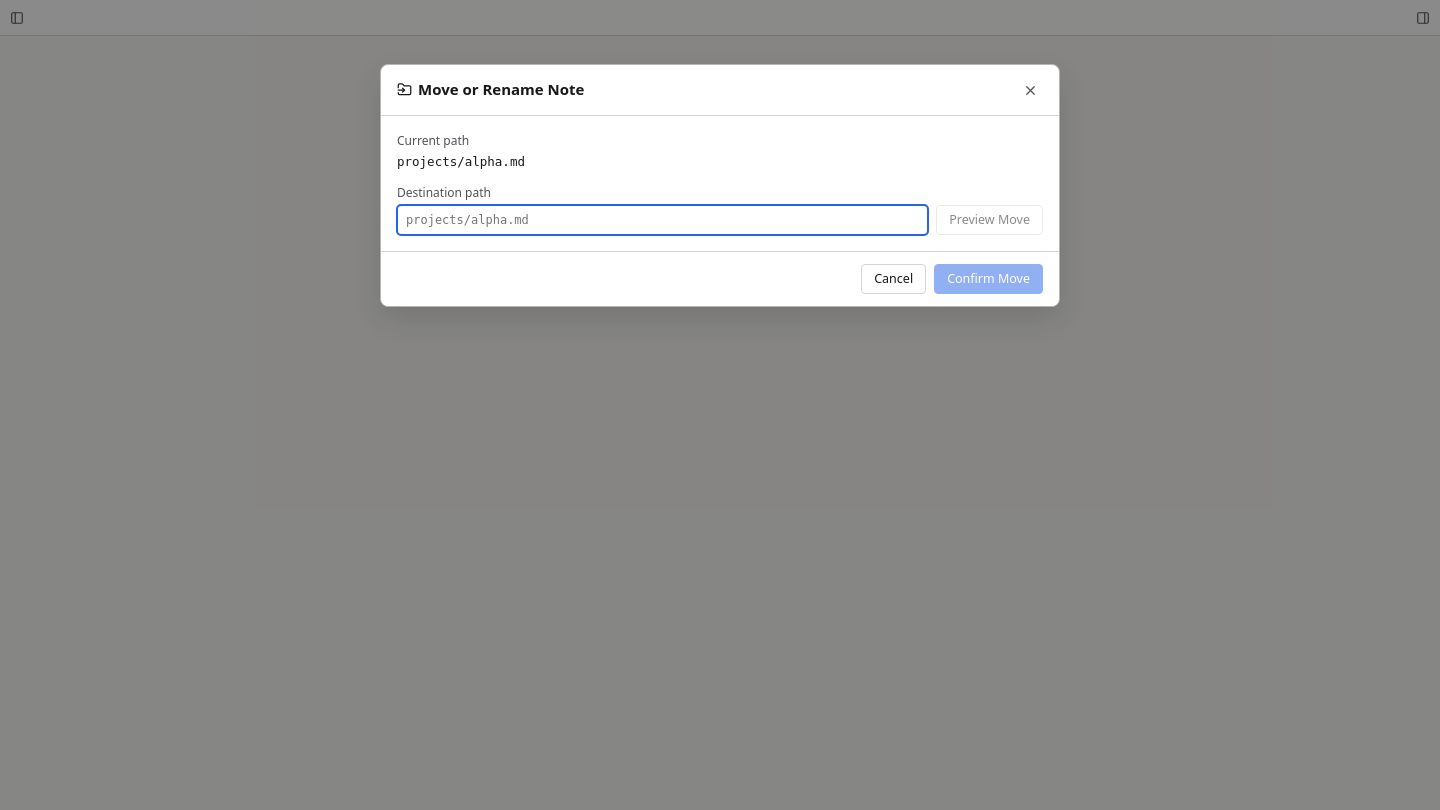
it: EditorWorkspace editing, conflicts, move preview, and close protection › shows affected backlinks in Move preview modal and confirms move
Later steps or results of the test are not shown.
Type "archive/alpha-renamed.md" into the field labelled "Destination path" at (663, 220), box x1=397 y1=205 x2=928 y2=235
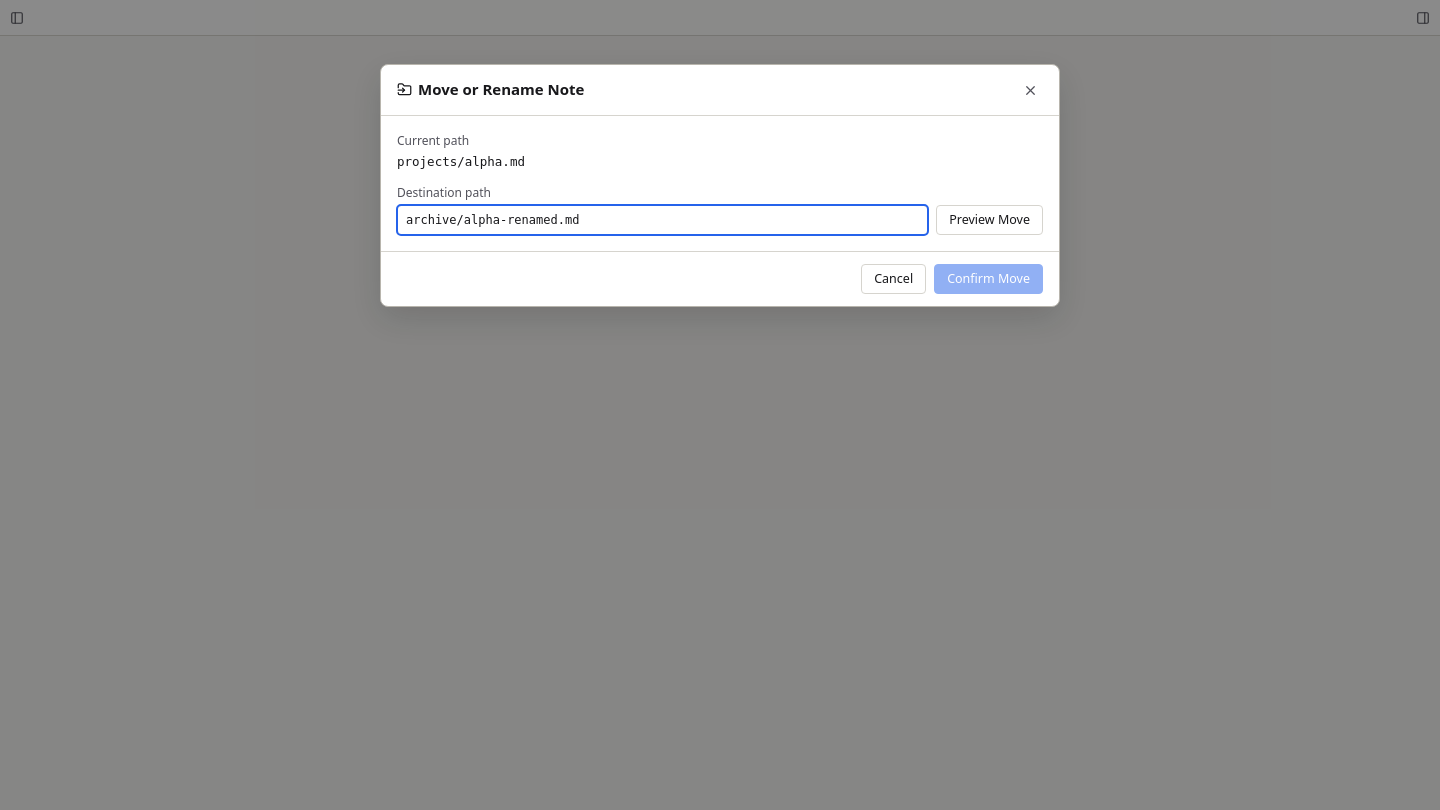
Click the button "Preview Move" at (990, 220), box x1=936 y1=205 x2=1043 y2=235
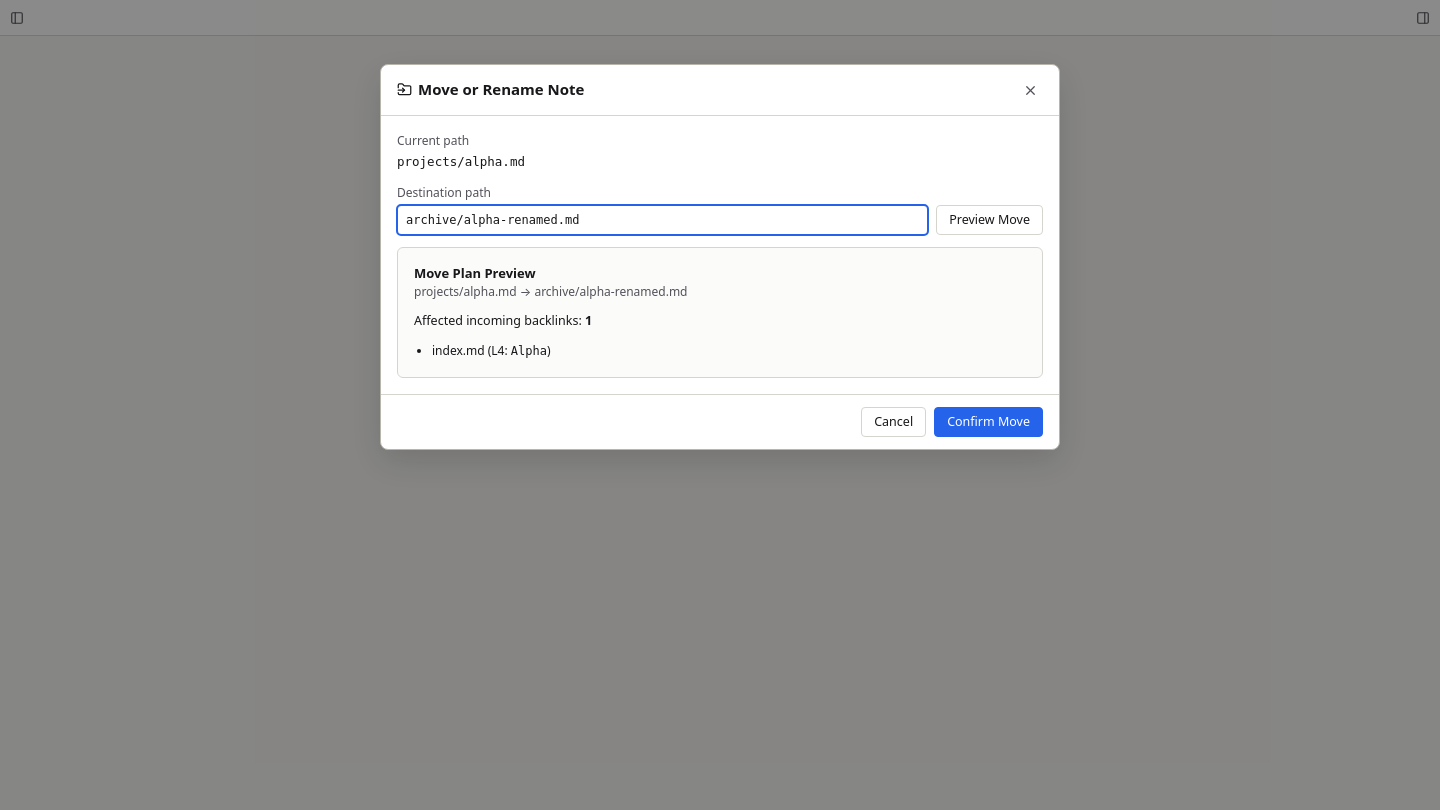
Expected: the list item "index.md (L4: Alpha)" is shown, x1=432 y1=342 x2=551 y2=359
